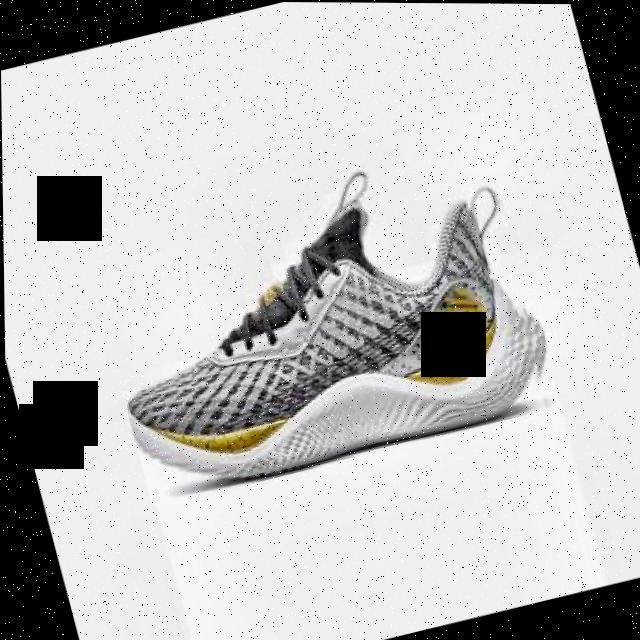shoe: (79, 134, 557, 506)
